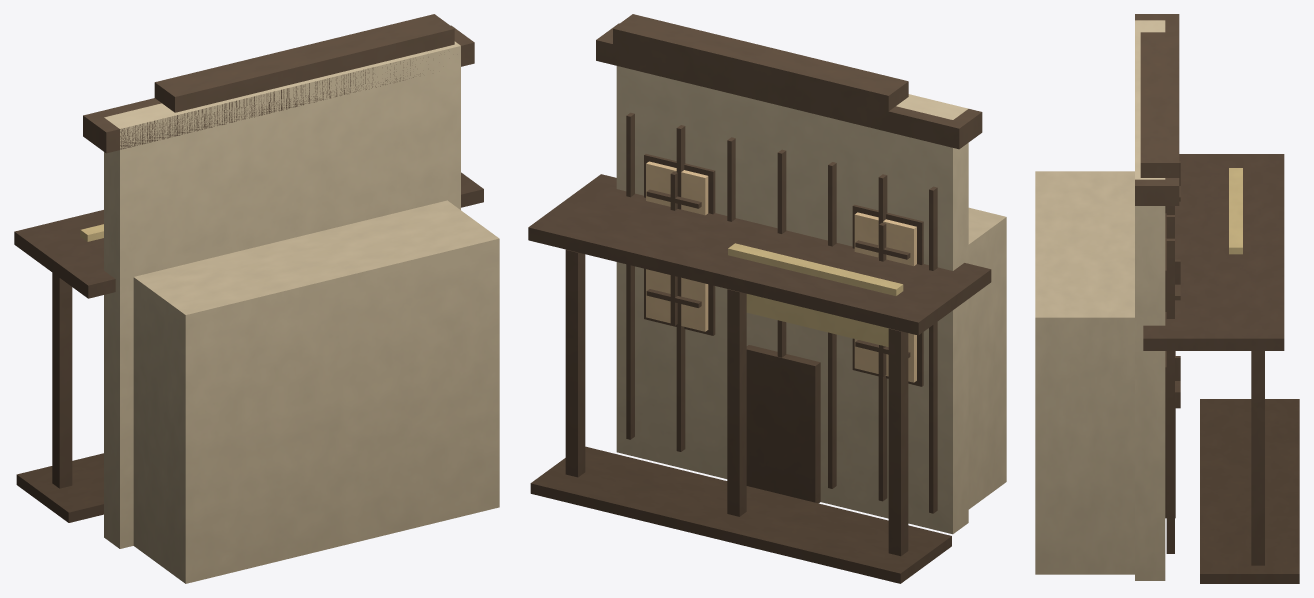
Rendered from production_store.glb.
3 views of the same model, side by side, from view 1: azimuth 30°, elevation 25°; view 2: azimuth 150°, elevation 25°; view 3: azimuth 270°, elevation 25° (orthographic). The views are drawn at different scales.
Parts seen in each view (by area): view 1: production_store; view 2: production_store; view 3: production_store.
Part boxes in pixels (x1,y1,x2,y2): production_store: [14, 14, 499, 583]; production_store: [528, 14, 1006, 583]; production_store: [1035, 14, 1299, 583].
Size of the model in its own units: 3.16 by 3.32 by 1.91.
1 material, 1 textured.
